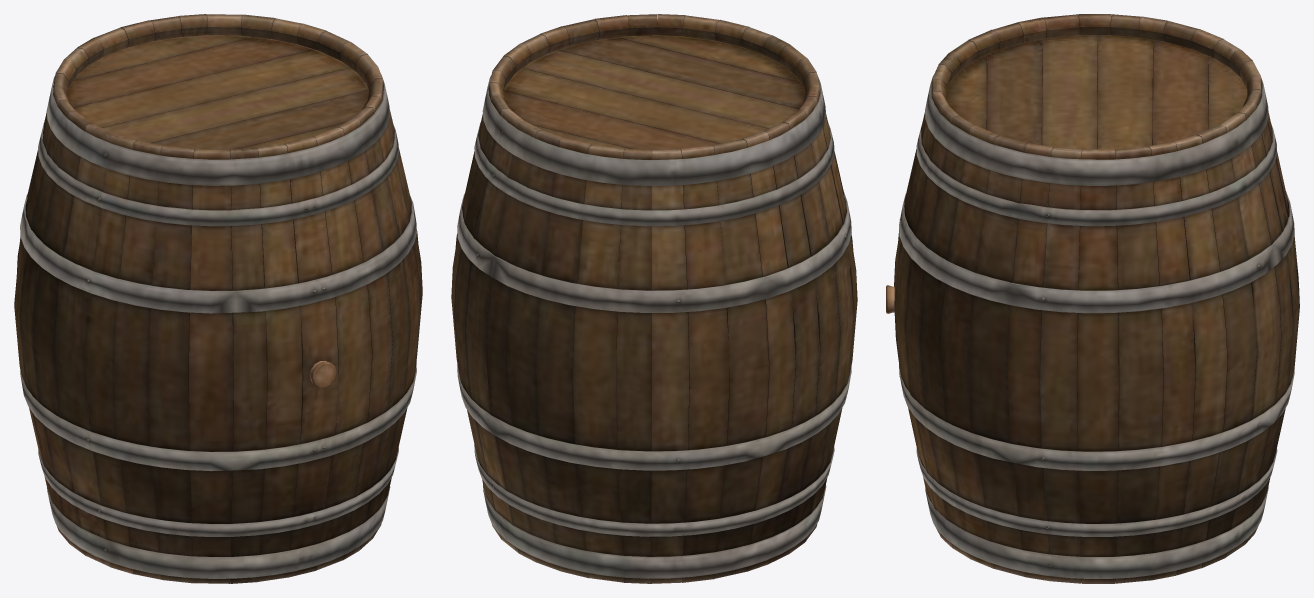
Rendered from wine_barrel_01.glb.
The picture shows the model from 3 angles, left to right: view 1: azimuth 30°, elevation 25°; view 2: azimuth 150°, elevation 25°; view 3: azimuth 270°, elevation 25°; orthographic projection.
Parts seen in each view (by area): view 1: wine_barrel_01, wine_barrel_01_Lid, wine_barrel_01_bung; view 2: wine_barrel_01, wine_barrel_01_Lid; view 3: wine_barrel_01, wine_barrel_01_Lid.
Part boxes in pixels (box(x1,y1,x2,y2)): wine_barrel_01: box(14, 14, 422, 583); wine_barrel_01_Lid: box(67, 35, 368, 149); wine_barrel_01_bung: box(310, 361, 336, 388); wine_barrel_01: box(451, 14, 857, 583); wine_barrel_01_Lid: box(503, 35, 805, 152); wine_barrel_01: box(894, 14, 1299, 583); wine_barrel_01_Lid: box(946, 35, 1247, 149).
Bounding box in the file's own units: 0.7419 × 0.8695 × 0.756.
1 material, 1 textured.
